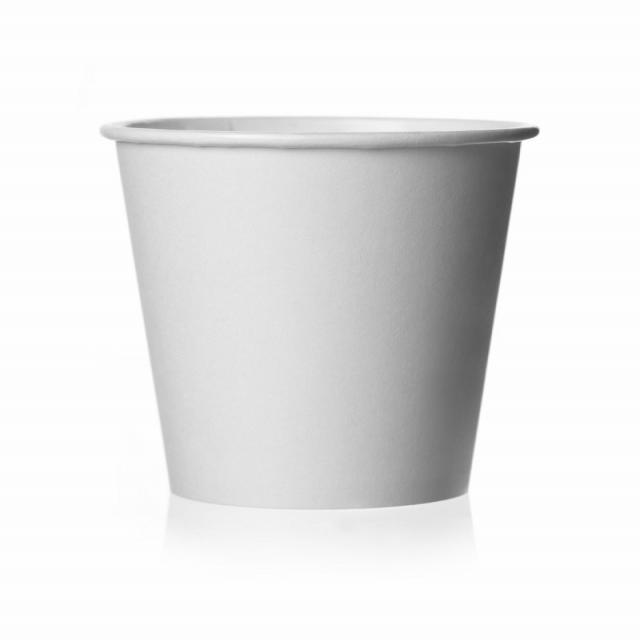trash: (98, 111, 542, 512)
